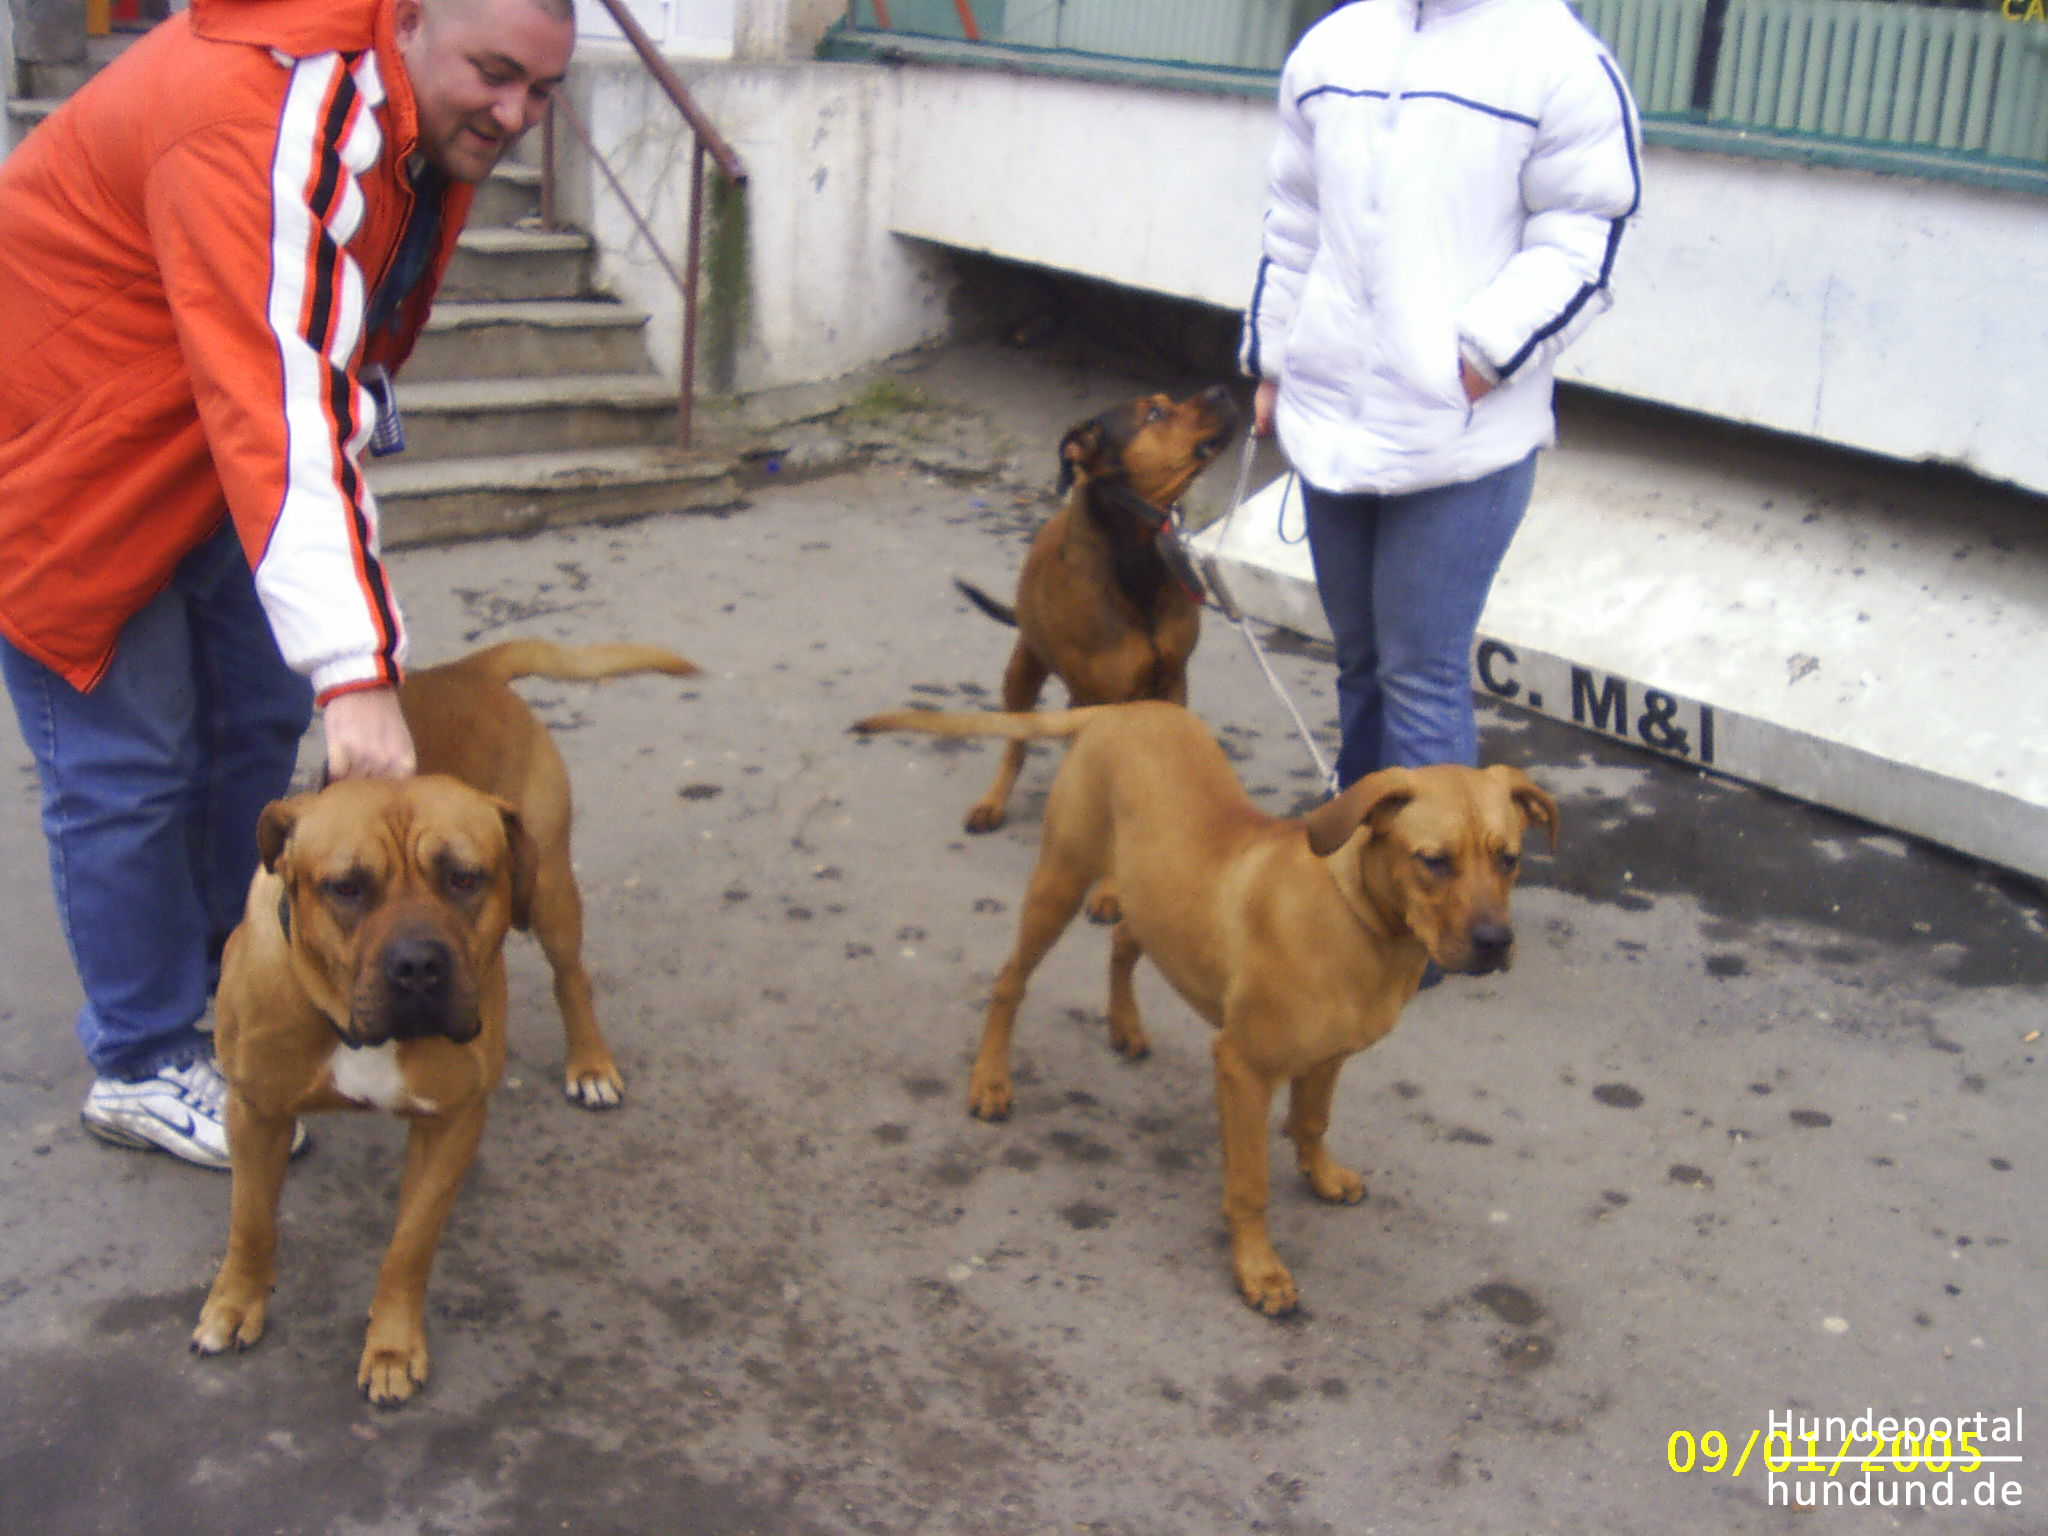human_face: (388, 0, 575, 186)
person: (0, 0, 575, 1176), (1236, 0, 1643, 792)
tosa_inu: (838, 698, 1559, 1327), (189, 637, 701, 1410), (949, 378, 1236, 835)
